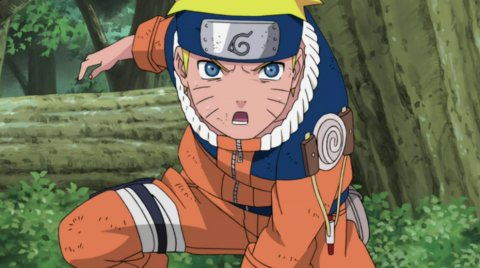naruto: (170, 5, 311, 138)
